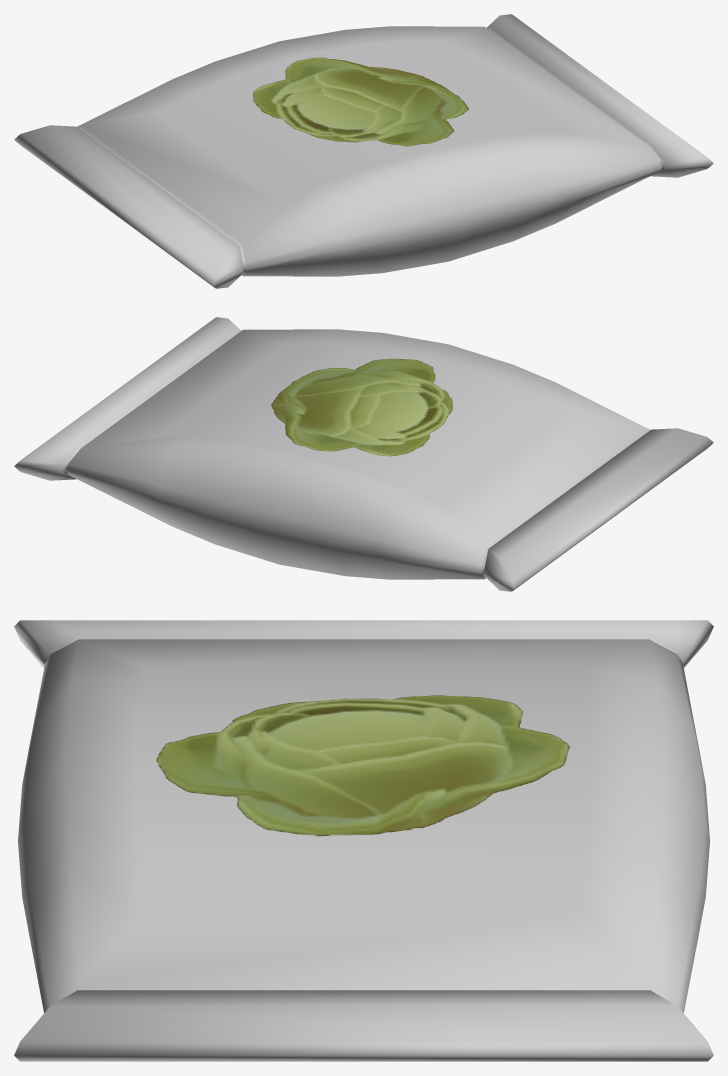
File: cabbage_seedpack.fbx
3 renders of one model, top to bottom at view 1: azimuth 30°, elevation 25°; view 2: azimuth 150°, elevation 25°; view 3: azimuth 270°, elevation 25°, orthographic. The views are drawn at different scales.
Parts seen in each view (by area): view 1: cabbage_seed_pack, cabbage_seed_pack_top; view 2: cabbage_seed_pack, cabbage_seed_pack_top; view 3: cabbage_seed_pack, cabbage_seed_pack_top.
Boxes of the visible parts, left/top/right/bottom form: cabbage_seed_pack: left=14, top=14, right=713, bottom=288; cabbage_seed_pack_top: left=253, top=57, right=468, bottom=146; cabbage_seed_pack: left=14, top=317, right=713, bottom=591; cabbage_seed_pack_top: left=271, top=358, right=452, bottom=456; cabbage_seed_pack: left=14, top=620, right=713, bottom=1061; cabbage_seed_pack_top: left=156, top=695, right=569, bottom=836.
Bounding box in the file's own units: 2.17 × 0.4067 × 1.49.
